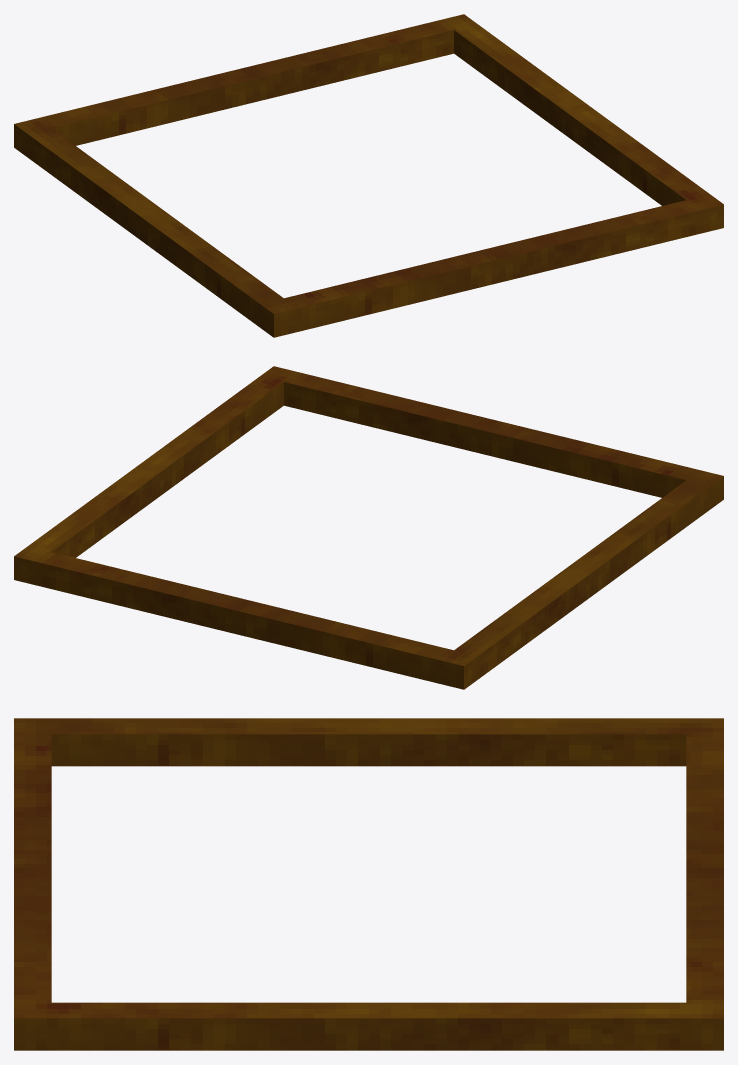
File: trapDoorFrame.glb
3 views of the same model, one above another, from view 1: azimuth 30°, elevation 25°; view 2: azimuth 150°, elevation 25°; view 3: azimuth 270°, elevation 25° (orthographic). The views are drawn at different scales.
Parts seen in each view (by area): view 1: Plane; view 2: Plane; view 3: Plane.
Part boxes in pixels (x1,y1,x2,y2): Plane: [14, 14, 723, 337]; Plane: [14, 366, 723, 689]; Plane: [14, 718, 723, 1050].
Bounding box in the file's own units: 4.49 × 0.2252 × 4.49.
Materials: 1 (1 with a texture image).
